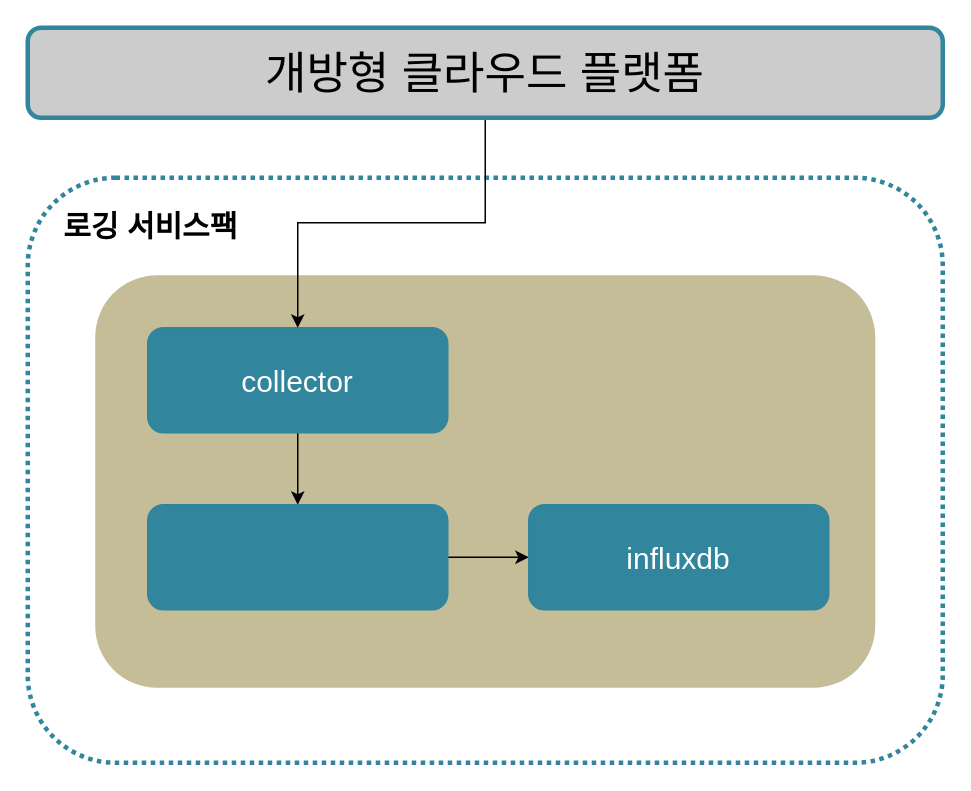
Some shapes in this 971 by 791 pixel diagram are drawn without their labels. Here are the shapes that lost their labels. From the top down, the box of each, then its label:
(94, 274, 874, 687): service back-end
(146, 503, 448, 610): fluentd
